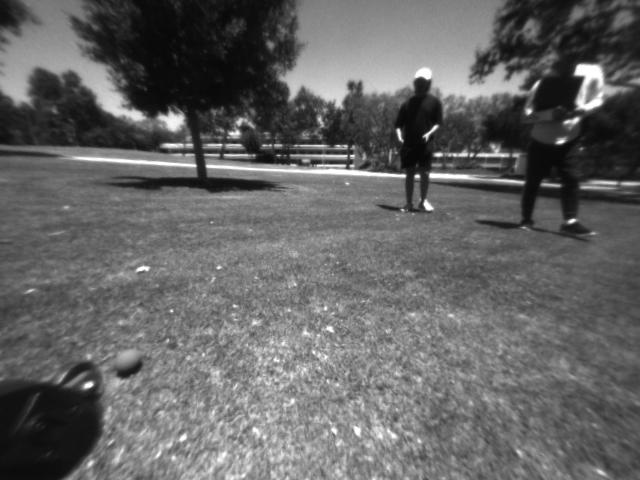dogtoy: (110, 344, 148, 380)
